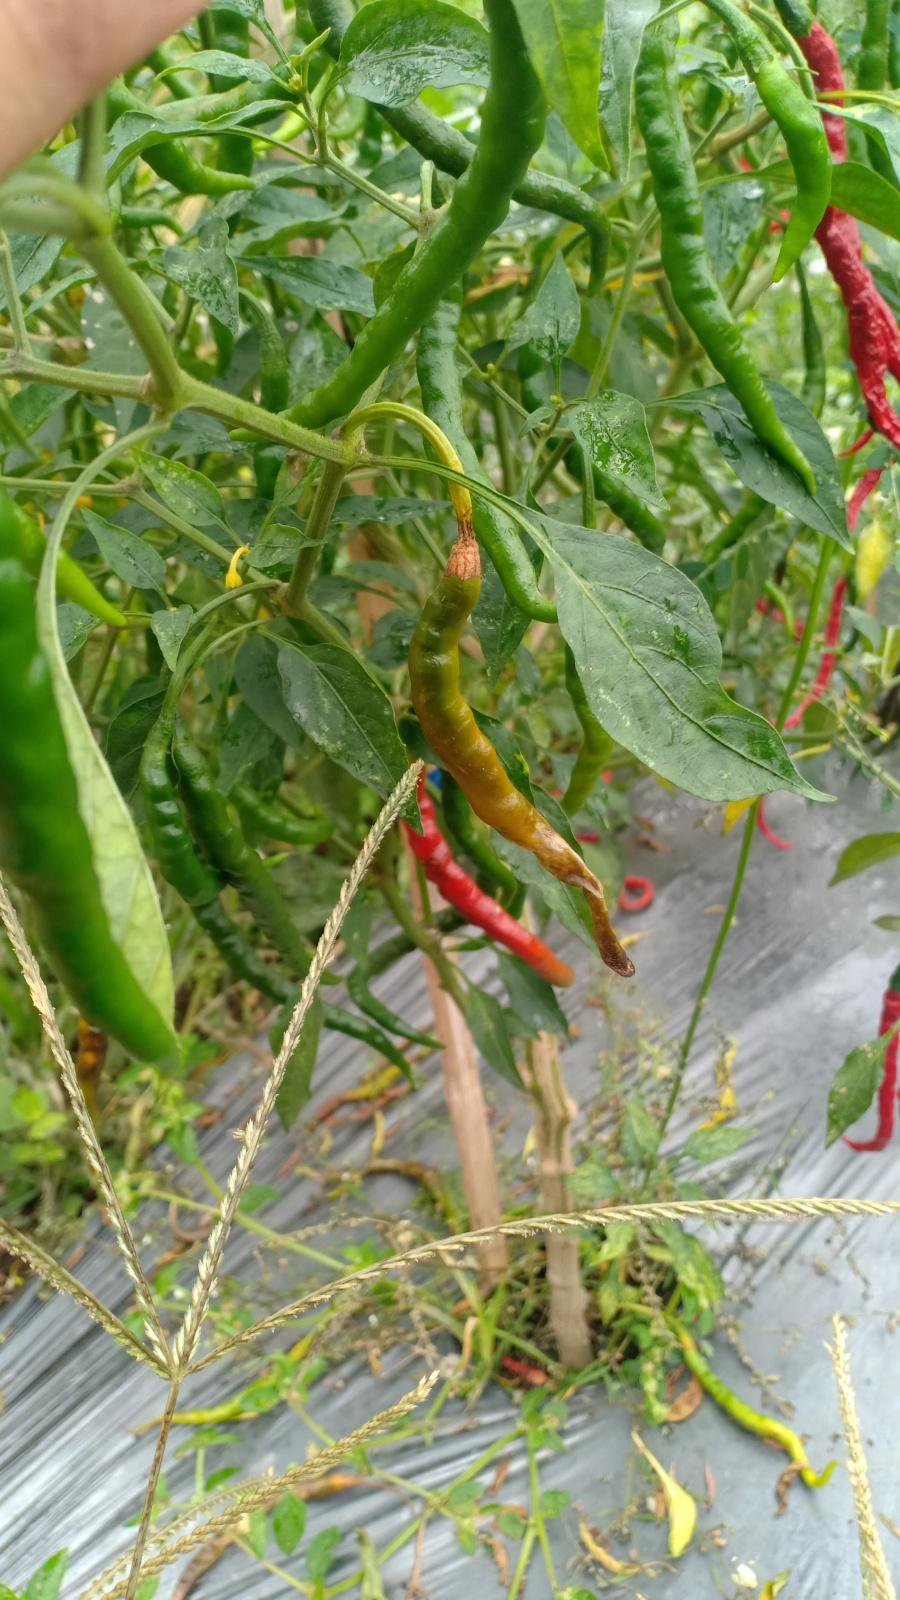cabai_normal: (241, 1, 544, 447), (638, 33, 823, 497), (804, 15, 895, 444), (747, 58, 821, 293)
lalat_buah: (395, 554, 635, 985), (399, 773, 565, 980)
